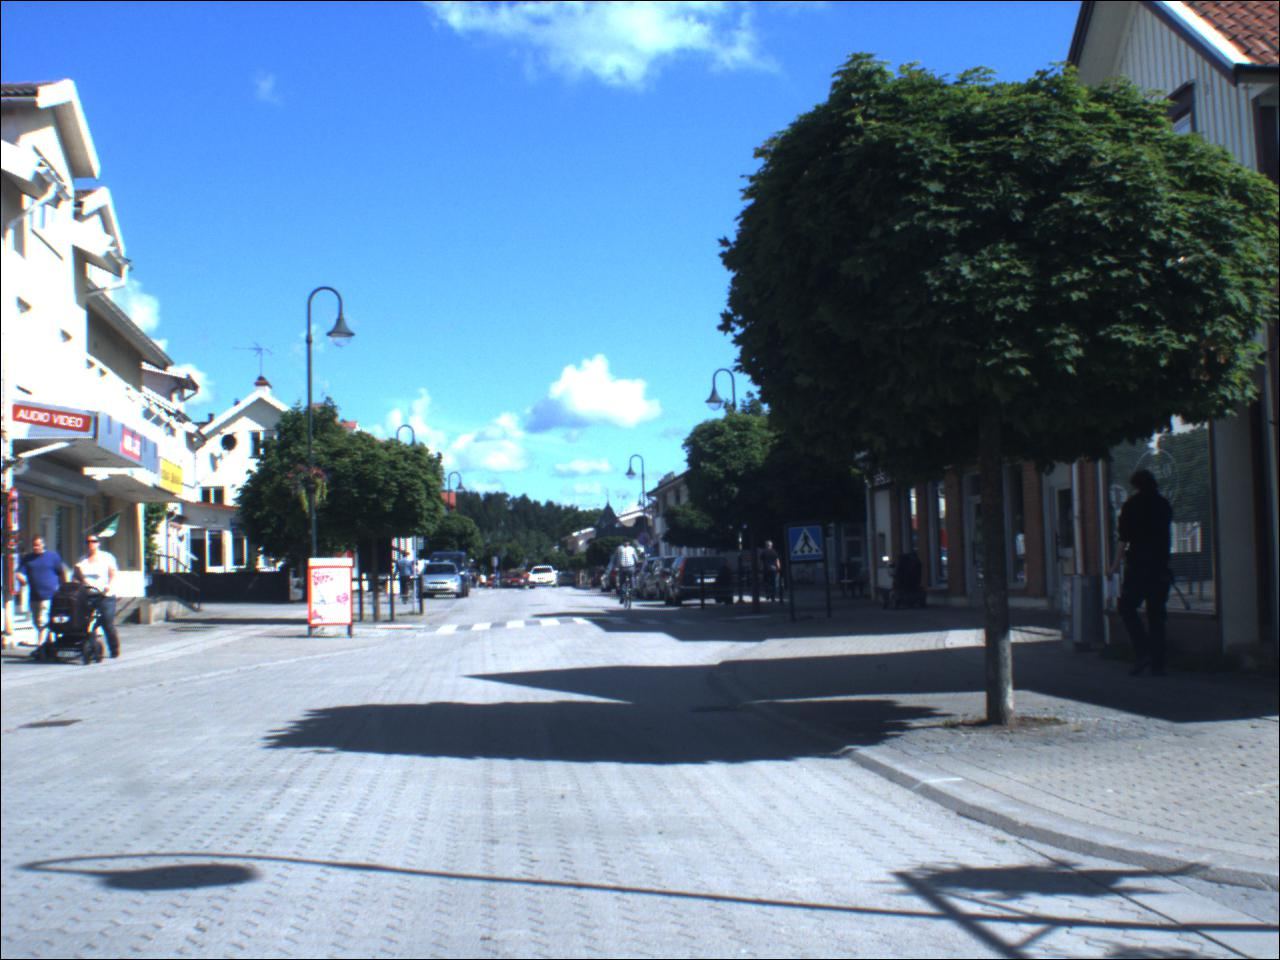NO_PARKING: (637, 532, 652, 548)
PEDESTRIAN_CROSSING: (790, 527, 829, 564)
